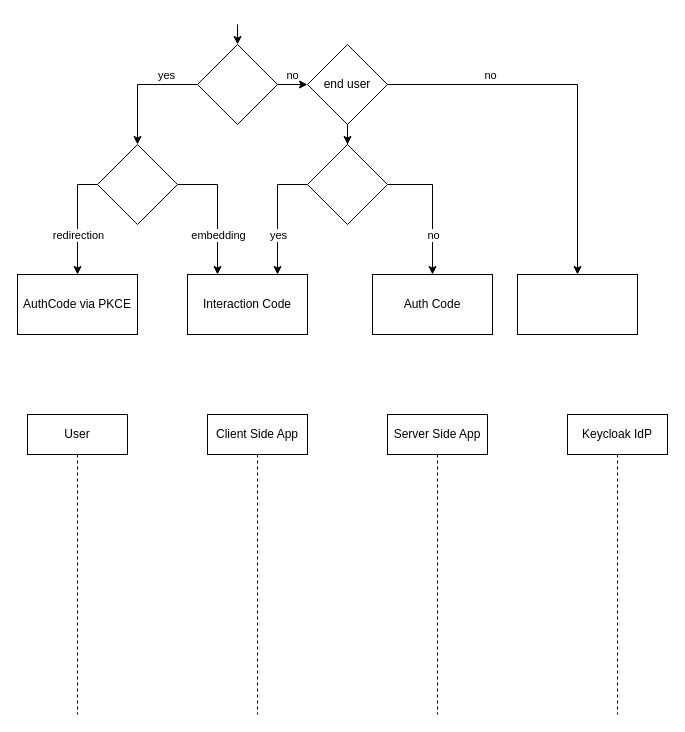
Image size: 685x732. Some labels were removed from this diagram. Each missing label, with the box of its shape:
Client Credentials: (516, 274, 638, 334)
high trust: (306, 144, 388, 224)
integration: (96, 144, 178, 224)
Public App: (196, 44, 278, 124)
